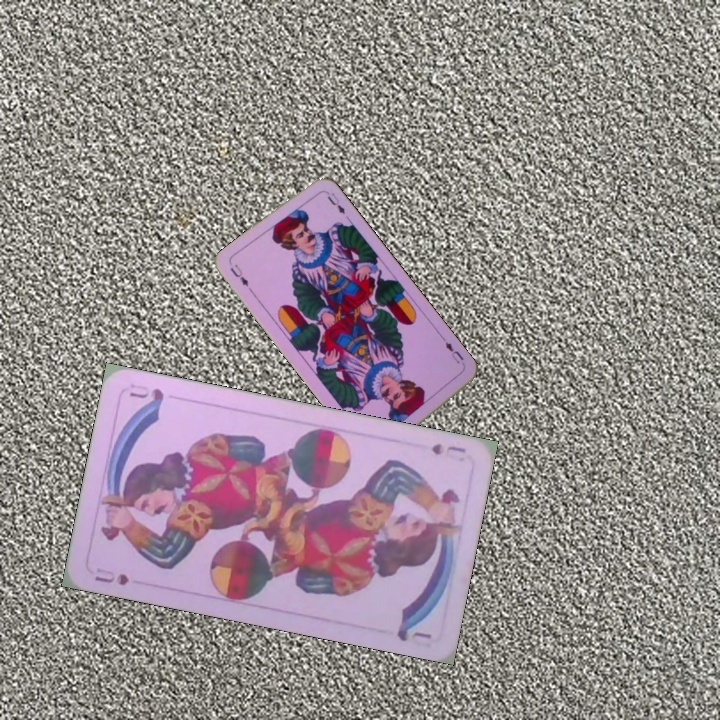EU: (439, 334, 468, 370), (226, 260, 251, 289)
SU: (427, 439, 469, 465), (91, 569, 132, 588)
